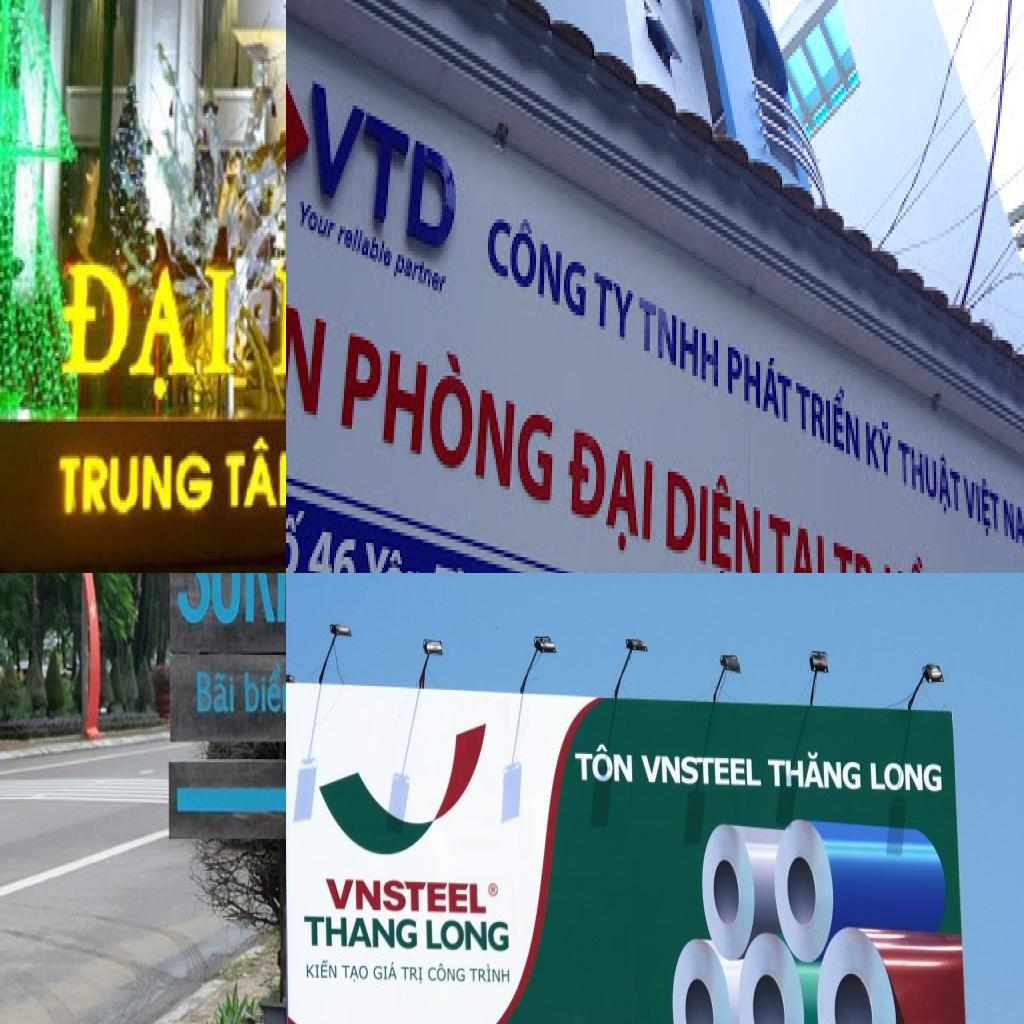text: (334, 304, 562, 514), (58, 257, 238, 407), (478, 194, 590, 326), (562, 415, 658, 564), (658, 454, 768, 573), (56, 448, 216, 520), (636, 287, 724, 397), (286, 230, 330, 432), (722, 333, 794, 436), (174, 573, 286, 637), (794, 365, 862, 468), (322, 875, 488, 914), (896, 433, 964, 525), (223, 431, 286, 512), (766, 500, 830, 573), (766, 747, 863, 793), (640, 755, 763, 789), (302, 912, 418, 948), (592, 262, 638, 351), (390, 244, 450, 305), (336, 216, 396, 276), (962, 461, 1002, 547), (304, 517, 362, 573), (362, 528, 432, 573), (425, 918, 510, 953), (862, 404, 898, 486), (242, 660, 286, 719), (869, 762, 943, 797), (575, 745, 635, 786), (294, 194, 338, 248), (193, 668, 238, 720), (830, 529, 882, 573), (430, 546, 506, 573), (286, 489, 310, 573), (1002, 489, 1024, 564), (880, 542, 932, 573), (467, 958, 516, 985), (425, 961, 468, 986), (305, 957, 339, 979), (340, 962, 369, 983), (400, 964, 425, 988), (372, 961, 400, 982)
